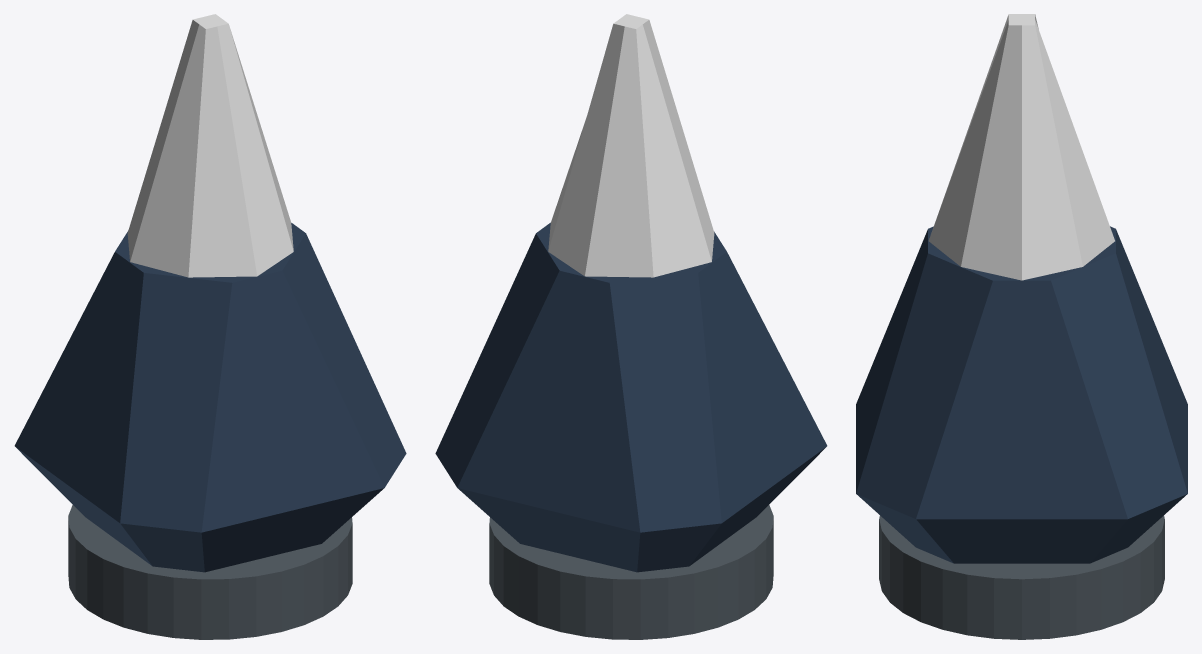
The model's file is Lamp.fbx.
The picture shows the model from 3 angles, left to right: view 1: azimuth 30°, elevation 25°; view 2: azimuth 150°, elevation 25°; view 3: azimuth 270°, elevation 25°; orthographic projection.
Visible parts, largest first — view 1: Цилиндр, Куб.001; view 2: Цилиндр, Куб.001; view 3: Цилиндр, Куб.001.
Part boxes in pixels (bbox=[...]): Цилиндр: bbox=[14, 223, 406, 639]; Куб.001: bbox=[127, 14, 293, 277]; Цилиндр: bbox=[435, 222, 827, 639]; Куб.001: bbox=[548, 14, 714, 277]; Цилиндр: bbox=[856, 226, 1187, 639]; Куб.001: bbox=[928, 14, 1114, 280].
Size of the model in its own units: 18.61 by 34.65 by 18.61.
